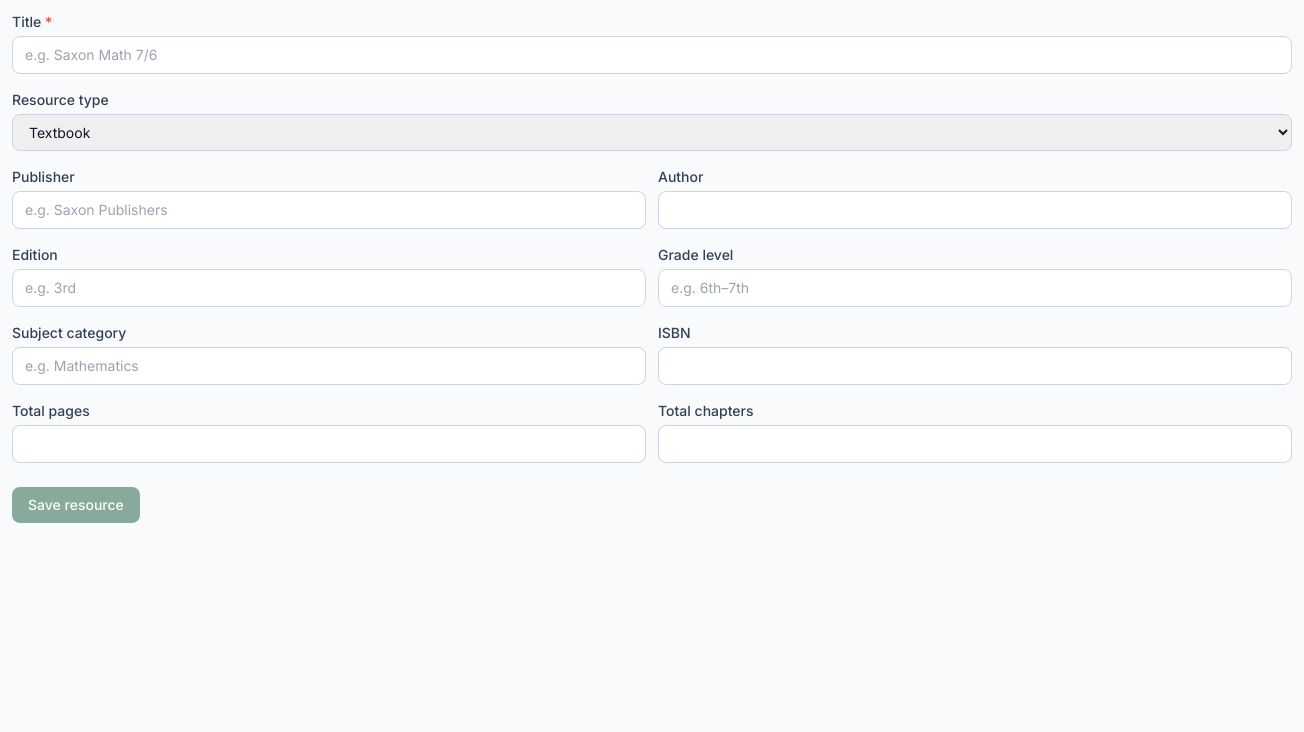
Scenario: ResourceForm › shows lesson generation hint after total chapters are entered
This screenshot has width=1304, height=732.
Type "30" into the number field with test id "resource-total-chapters-input" at (975, 444), box [658,425,1292,463]
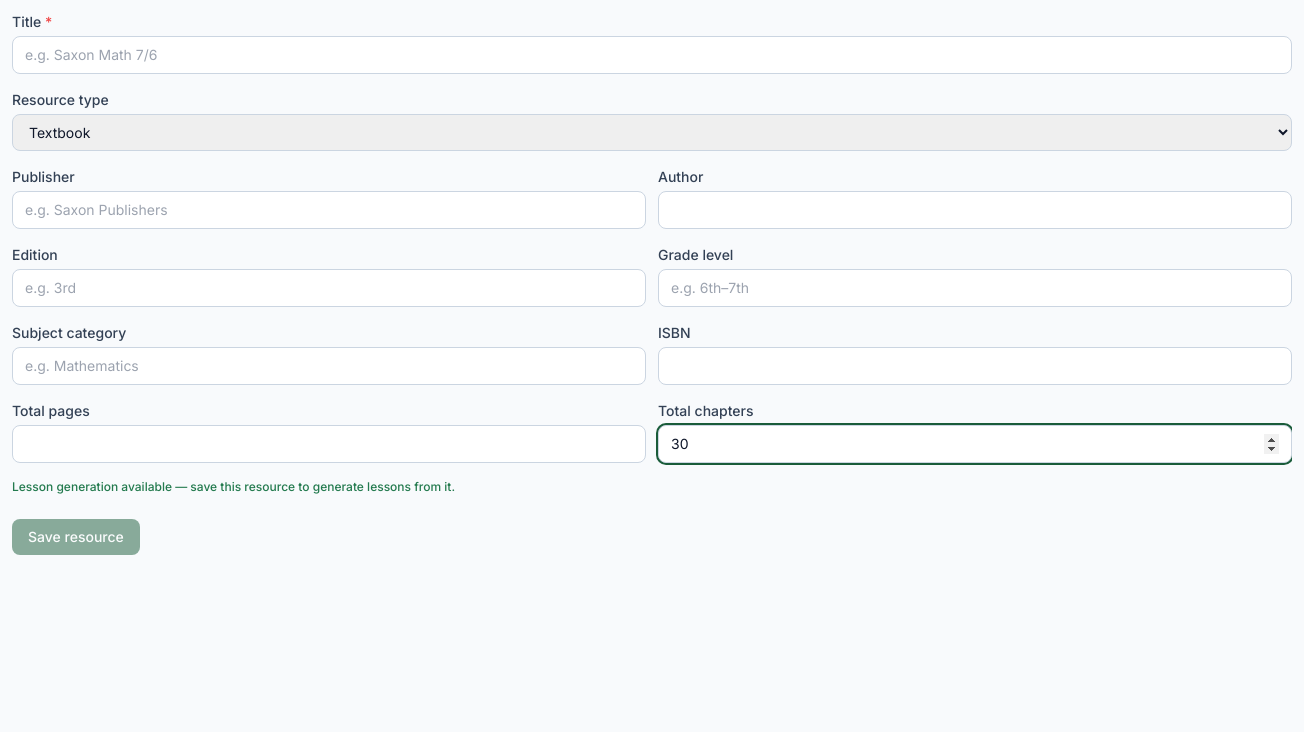
Now the text with test id "lesson-generation-hint" is shown, box [12,479,455,494]
